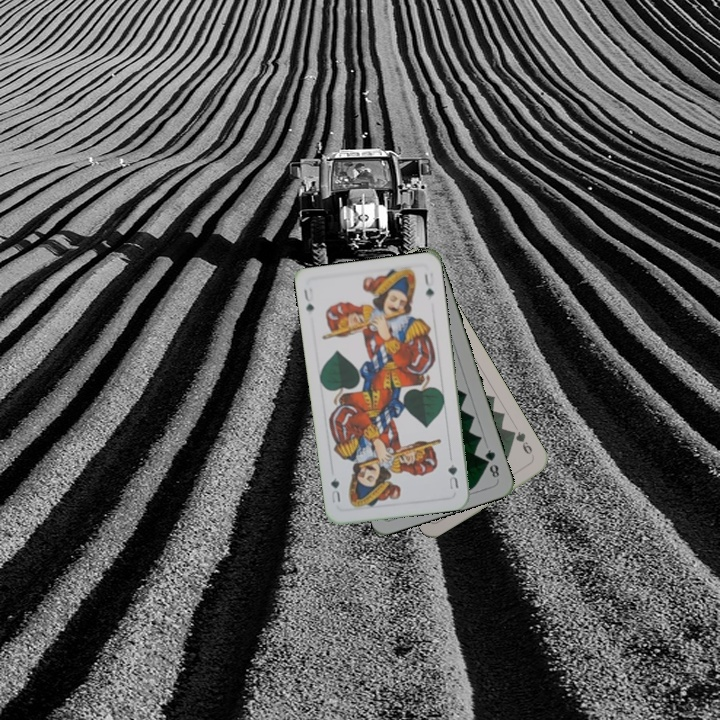G8: (481, 445, 502, 480)
G9: (507, 427, 537, 461)
GU: (444, 454, 461, 492), (300, 285, 316, 315)
